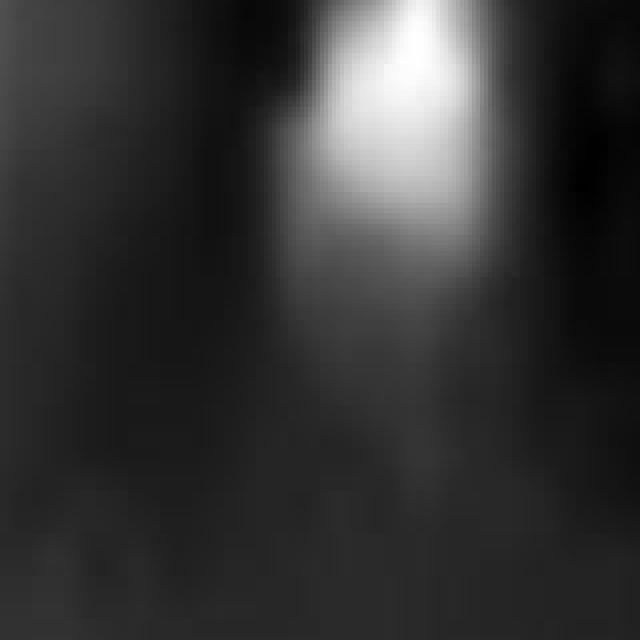person: (261, 1, 497, 390)
